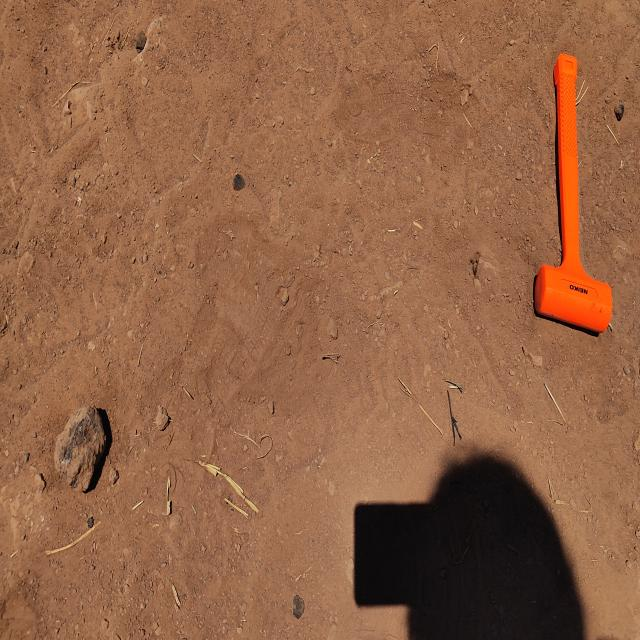Orange_hammer: (532, 51, 613, 335)
rock: (52, 400, 111, 495)
